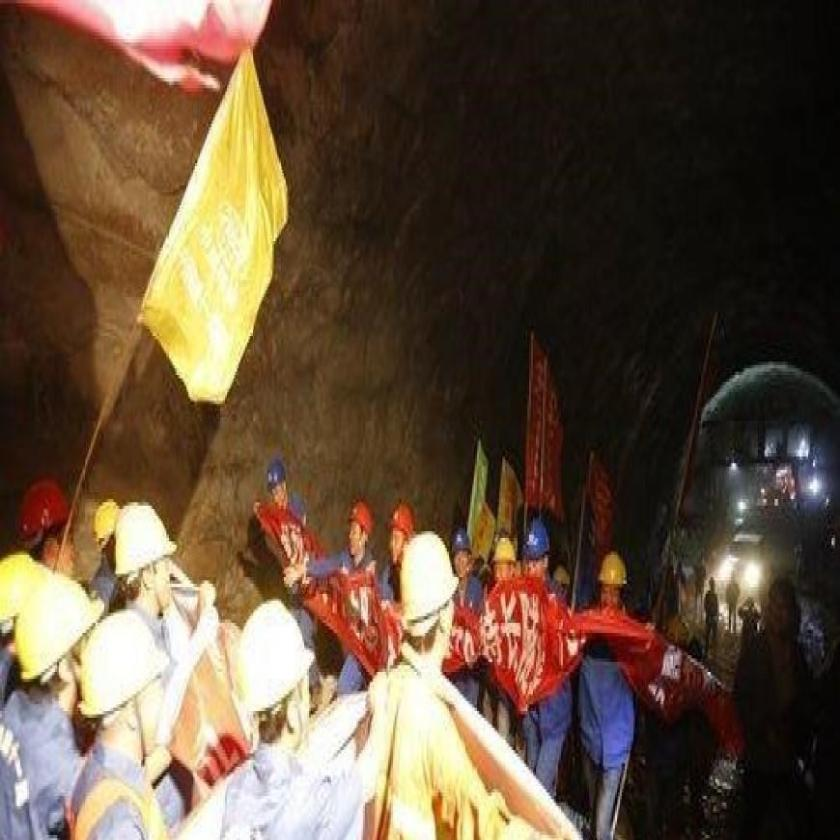Con_casco: (79, 609, 169, 784), (235, 590, 319, 766), (14, 578, 98, 714), (110, 507, 181, 636)
Sin_casco: (764, 564, 802, 662)
